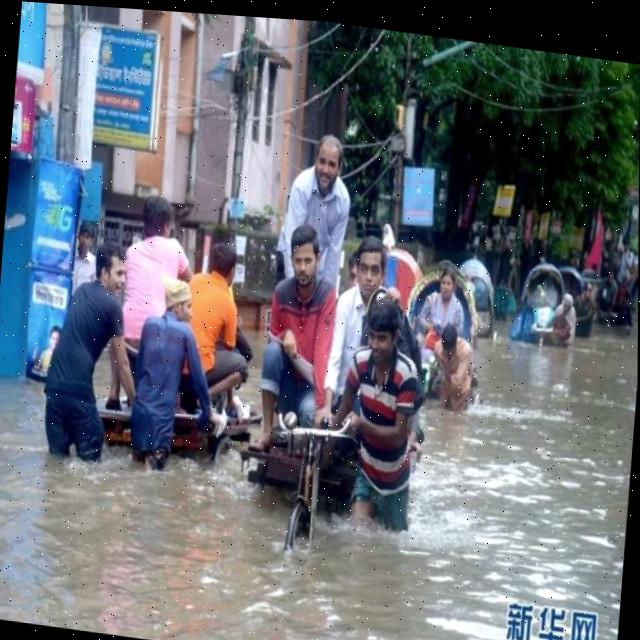civilian: (344, 283, 447, 540), (38, 230, 142, 481), (246, 221, 345, 478), (306, 224, 396, 458), (102, 187, 188, 425), (267, 123, 363, 310), (117, 274, 198, 480), (177, 225, 253, 416), (429, 317, 486, 422), (411, 262, 465, 372), (62, 209, 105, 309), (548, 282, 579, 359), (571, 279, 599, 353), (599, 268, 623, 321), (342, 243, 360, 288)
